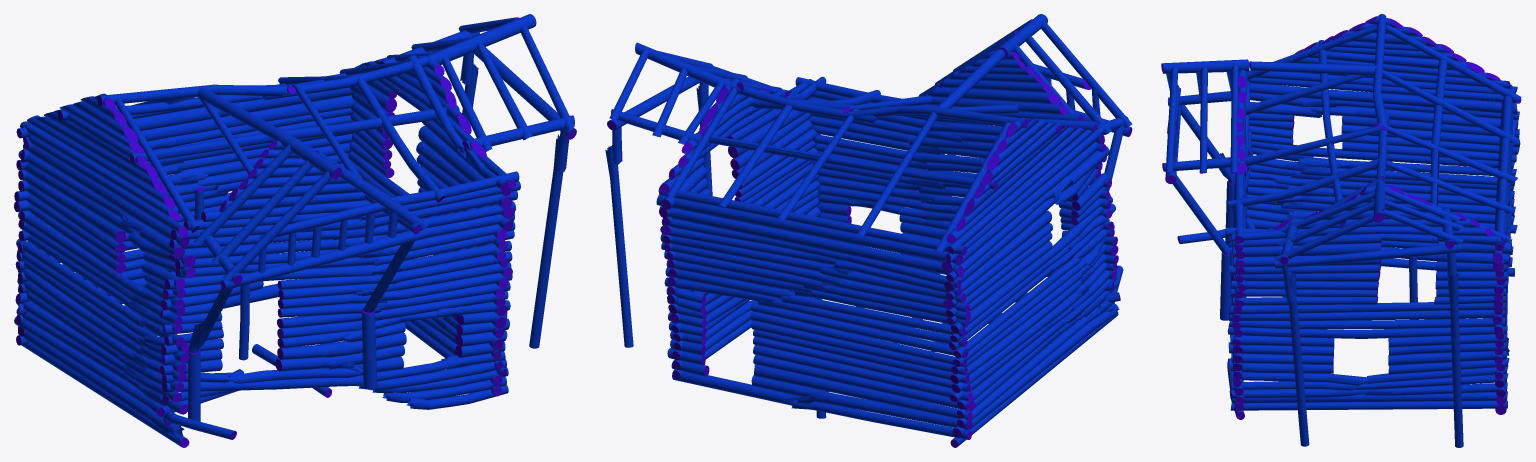
Rendered from MI_SmallLodege_BrokenLog01.fbx.
3 renders of one model, left to right at view 1: azimuth 30°, elevation 25°; view 2: azimuth 150°, elevation 25°; view 3: azimuth 270°, elevation 25°, orthographic. The views are drawn at different scales.
Parts seen in each view (by area): view 1: SM_ST_SmallLodge01.mo; view 2: SM_ST_SmallLodge01.mo; view 3: SM_ST_SmallLodge01.mo.
Part boxes in pixels (<box>): SM_ST_SmallLodge01.mo: <box>14,14,576,447</box>; SM_ST_SmallLodge01.mo: <box>605,14,1132,447</box>; SM_ST_SmallLodge01.mo: <box>1161,14,1521,447</box>.
Bounding box in the file's own units: 1373 × 1098 × 929.
